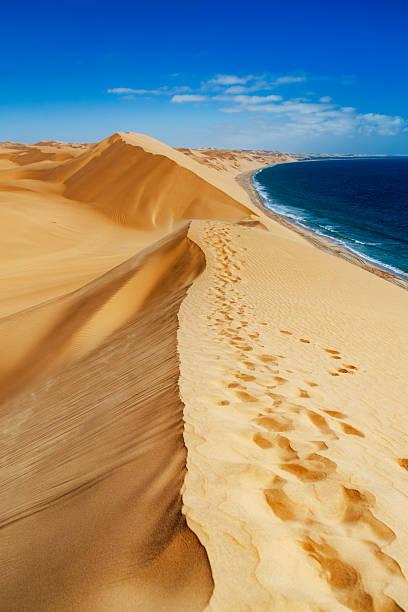human_footprint: (206, 226, 397, 605)
